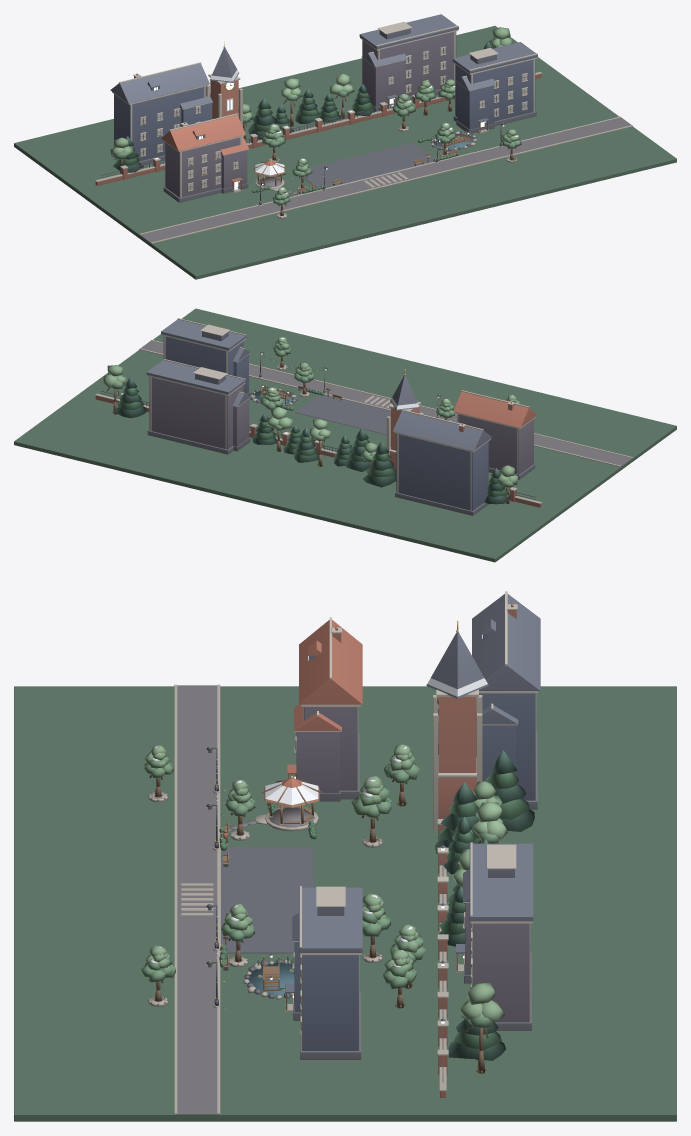
The model's file is campus_grounds.glb.
3 renders of one model, top to bottom at view 1: azimuth 30°, elevation 25°; view 2: azimuth 150°, elevation 25°; view 3: azimuth 270°, elevation 25°, orthographic. The views are drawn at different scales.
Parts seen in each view (by area): view 1: Campus_Grass_Base, Static_Merged_Mat_Neighbor_Warm, Static_Merged_Mat_Neighbor_Sil, Static_Merged_Mat_Roof_Slate, Campus_Road, Static_Merged_Mat_Trim_Cream, Static_Merged_Mat_Ground_Stone, Static_Merged_Mat_Stone_Trim, Static_Merged_Mat_Leaf_Accent, Static_Merged_Mat_Wall_BrickRed, Static_Merged_Mat_Roof_Terracotta, Static_Merged_Mat_Leaf_Main (+6 smaller); view 2: Campus_Grass_Base, Static_Merged_Mat_Neighbor_Warm, Static_Merged_Mat_Neighbor_Sil, Static_Merged_Mat_Roof_Slate, Static_Merged_Mat_Ground_Stone, Static_Merged_Mat_Pine_Leaf, Campus_Road, Static_Merged_Mat_Stone_Trim, Static_Merged_Mat_Leaf_Accent, Static_Merged_Mat_Hedge_Leaf, Static_Merged_Mat_Trim_Cream, Static_Merged_Mat_Roof_Terracotta (+3 smaller); view 3: Campus_Grass_Base, Campus_Road, Static_Merged_Mat_Roof_Slate, Static_Merged_Mat_Ground_Stone, Static_Merged_Mat_Neighbor_Sil, Static_Merged_Mat_Neighbor_Warm, Static_Merged_Mat_Stone_Trim, Static_Merged_Mat_Leaf_Accent, Static_Merged_Mat_Roof_Terracotta, Static_Merged_Mat_Leaf_Main, Static_Merged_Mat_Wall_BrickRed, Static_Merged_Mat_Trim_Cream (+7 smaller).
Part boxes in pixels (bbox=[...]): Campus_Grass_Base: bbox=[14, 26, 676, 279]; Static_Merged_Mat_Neighbor_Warm: bbox=[165, 31, 456, 197]; Static_Merged_Mat_Neighbor_Sil: bbox=[114, 59, 535, 161]; Static_Merged_Mat_Roof_Slate: bbox=[110, 14, 537, 122]; Campus_Road: bbox=[140, 117, 631, 242]; Static_Merged_Mat_Trim_Cream: bbox=[112, 29, 632, 243]; Static_Merged_Mat_Ground_Stone: bbox=[112, 89, 536, 217]; Static_Merged_Mat_Stone_Trim: bbox=[95, 21, 542, 218]; Static_Merged_Mat_Leaf_Accent: bbox=[112, 27, 516, 199]; Static_Merged_Mat_Wall_BrickRed: bbox=[95, 74, 541, 185]; Static_Merged_Mat_Roof_Terracotta: bbox=[161, 115, 314, 188]; Static_Merged_Mat_Leaf_Main: bbox=[110, 39, 521, 205]; Campus_Grass_Base: bbox=[14, 308, 676, 562]; Static_Merged_Mat_Neighbor_Warm: bbox=[149, 377, 533, 474]; Static_Merged_Mat_Neighbor_Sil: bbox=[163, 336, 488, 510]; Static_Merged_Mat_Roof_Slate: bbox=[146, 319, 492, 451]; Static_Merged_Mat_Ground_Stone: bbox=[147, 364, 535, 515]; Static_Merged_Mat_Pine_Leaf: bbox=[114, 376, 510, 504]; Campus_Road: bbox=[140, 340, 632, 466]; Static_Merged_Mat_Stone_Trim: bbox=[95, 318, 542, 510]; Static_Merged_Mat_Leaf_Accent: bbox=[103, 337, 518, 483]; Static_Merged_Mat_Hedge_Leaf: bbox=[116, 388, 509, 497]; Static_Merged_Mat_Trim_Cream: bbox=[139, 334, 632, 466]; Static_Merged_Mat_Roof_Terracotta: bbox=[443, 391, 537, 427]; Campus_Grass_Base: bbox=[14, 686, 676, 1121]; Campus_Road: bbox=[176, 685, 218, 1114]; Static_Merged_Mat_Roof_Slate: bbox=[285, 594, 540, 992]; Static_Merged_Mat_Ground_Stone: bbox=[148, 732, 537, 1059]; Static_Merged_Mat_Neighbor_Sil: bbox=[294, 634, 535, 1050]; Static_Merged_Mat_Neighbor_Warm: bbox=[296, 656, 529, 1022]; Static_Merged_Mat_Stone_Trim: bbox=[148, 604, 536, 1091]; Static_Merged_Mat_Leaf_Accent: bbox=[145, 744, 507, 1022]; Static_Merged_Mat_Roof_Terracotta: bbox=[223, 620, 362, 842]; Static_Merged_Mat_Leaf_Main: bbox=[141, 752, 504, 1027]; Static_Merged_Mat_Wall_BrickRed: bbox=[332, 610, 516, 1097]; Static_Merged_Mat_Trim_Cream: bbox=[174, 591, 538, 1114].
Bounding box in the file's own units: 104 × 23.35 × 68.
